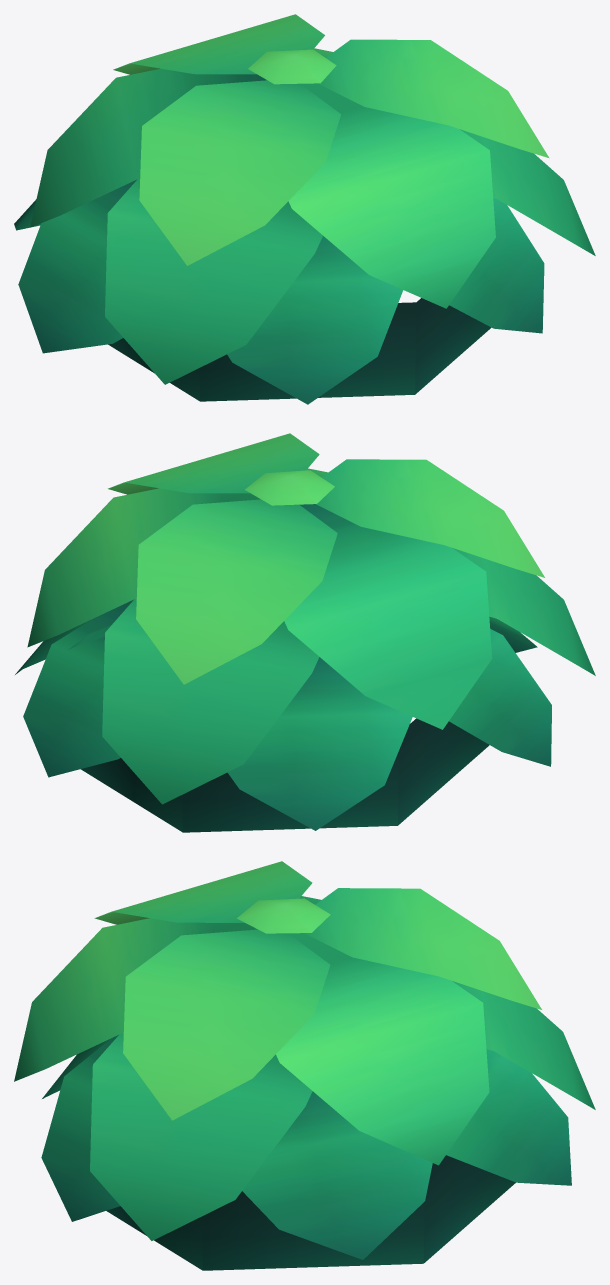
File: [breakable]2 (merge).fbx
3 renders of one model, top to bottom at view 1: azimuth 30°, elevation 25°; view 2: azimuth 150°, elevation 25°; view 3: azimuth 270°, elevation 25°, orthographic. The views are drawn at different scales.
Parts seen in each view (by area): view 1: [breakable]2; view 2: [breakable]2; view 3: [breakable]2.
Part boxes in pixels (box(x1,y1,x2,y2)): [breakable]2: box(14, 14, 595, 404); [breakable]2: box(15, 433, 595, 832); [breakable]2: box(14, 861, 595, 1270).
Bounding box in the file's own units: 0.922 × 0.4749 × 0.9007.
Materials: 1 (1 with a texture image).
